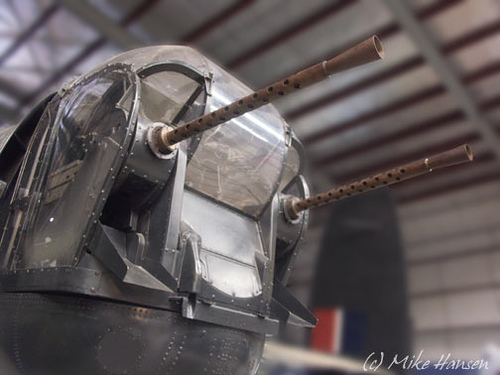rifle: (166, 37, 400, 122), (263, 145, 486, 228)
